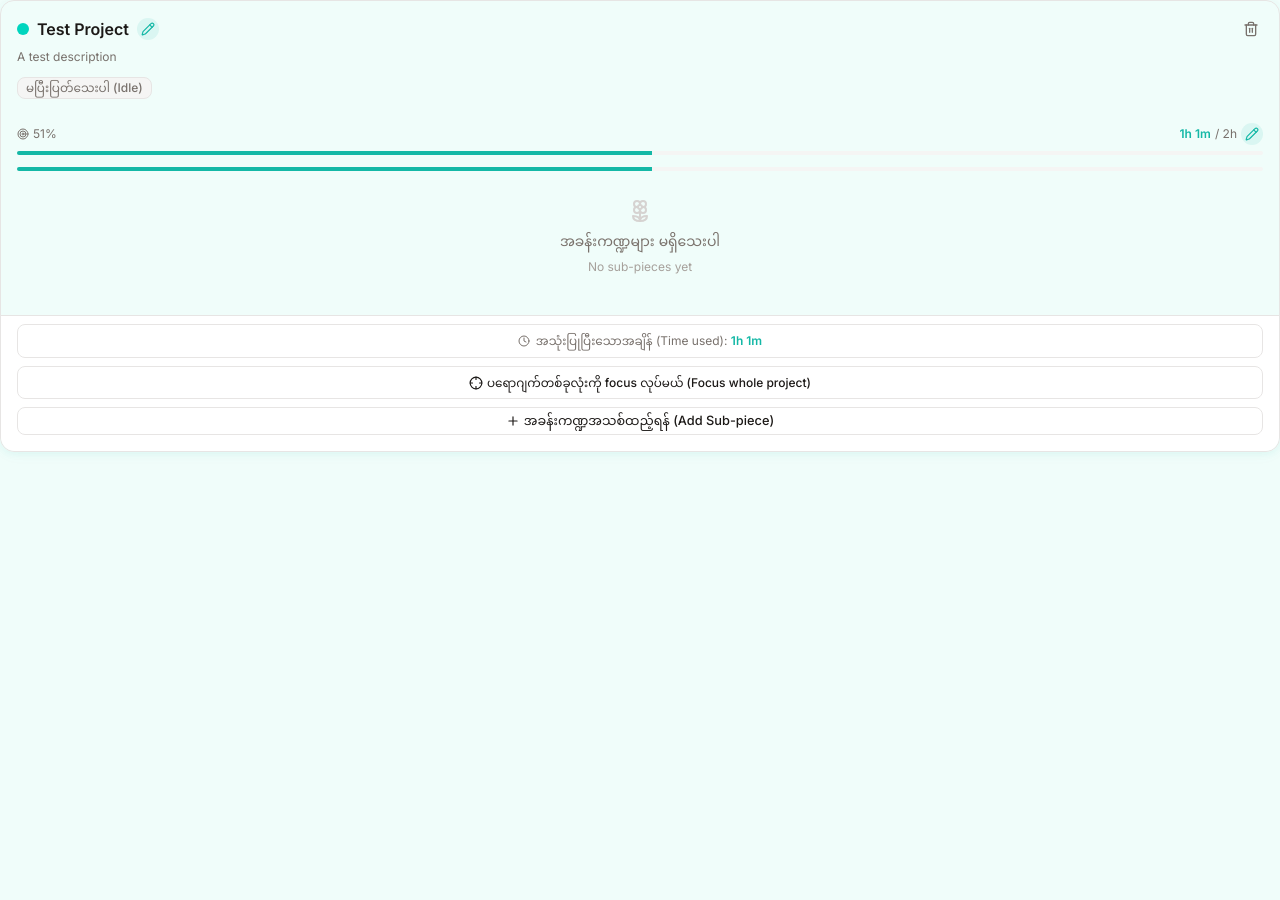
Test: ProjectCard target edit dialog › clicking the pencil button opens the target edit dialog
What coordinates should you click on to do the following:
click the button named "Edit target" next to "Test Project"
I would click on:
 (148, 29)
Its box is [137, 18, 159, 40].
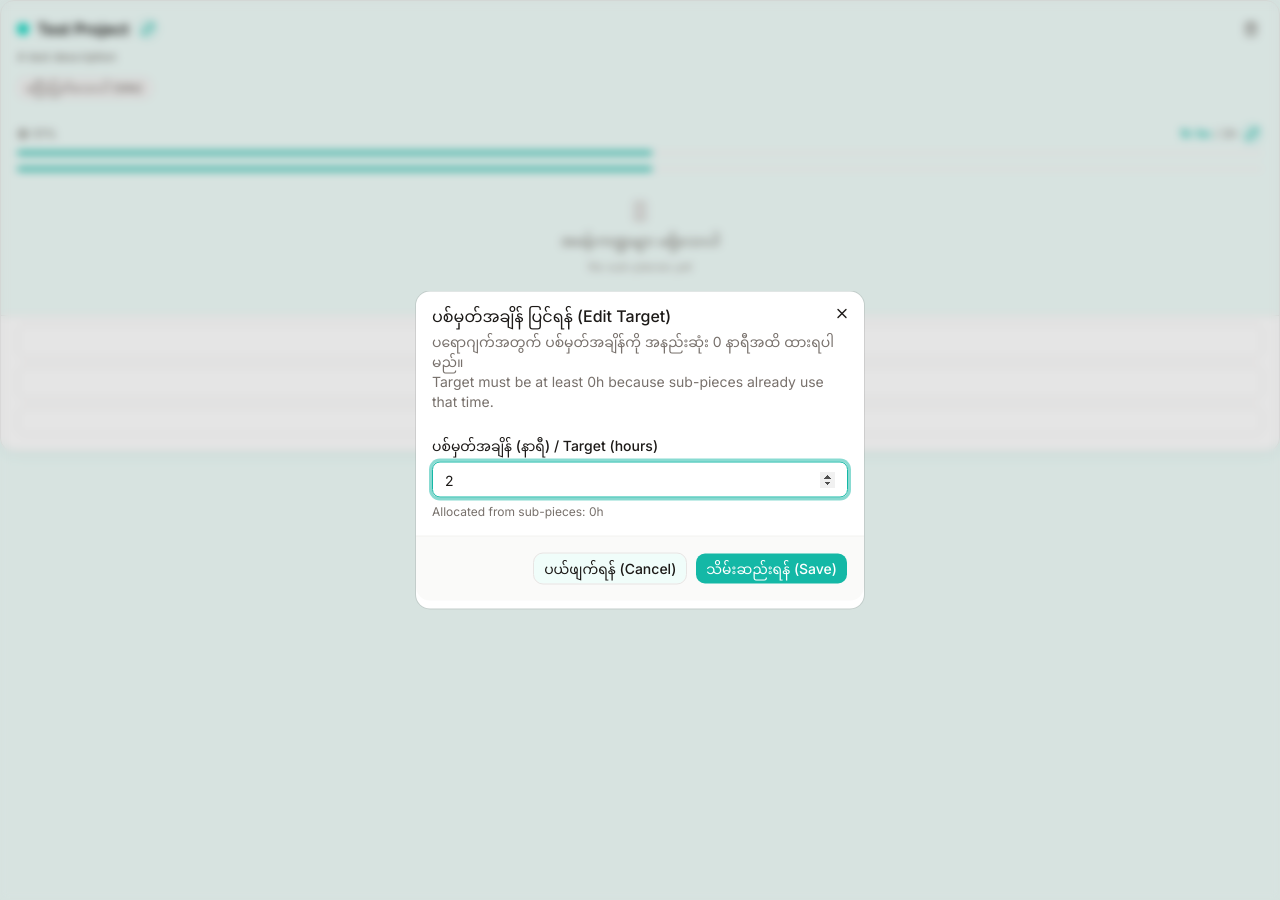
Check: the heading "ပစ်မှတ်အချိန် ပြင်ရန် (Edit Target)" is shown, box [432, 306, 671, 326]
Check: the number field labelled "ပစ်မှတ်အချိန် (နာရီ) / Target (hours)" is shown, box [432, 462, 848, 498]
